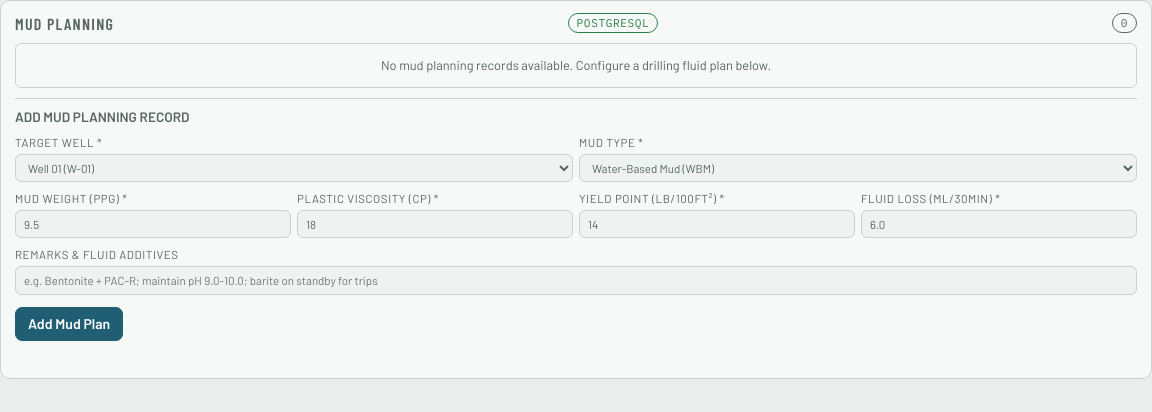
<MudPlanningEditor> › adds a valid mud plan via the form
Replace the text in the number field named "mud weight in ppg" with "10.5" at [153, 224], box [15,210,291,238]
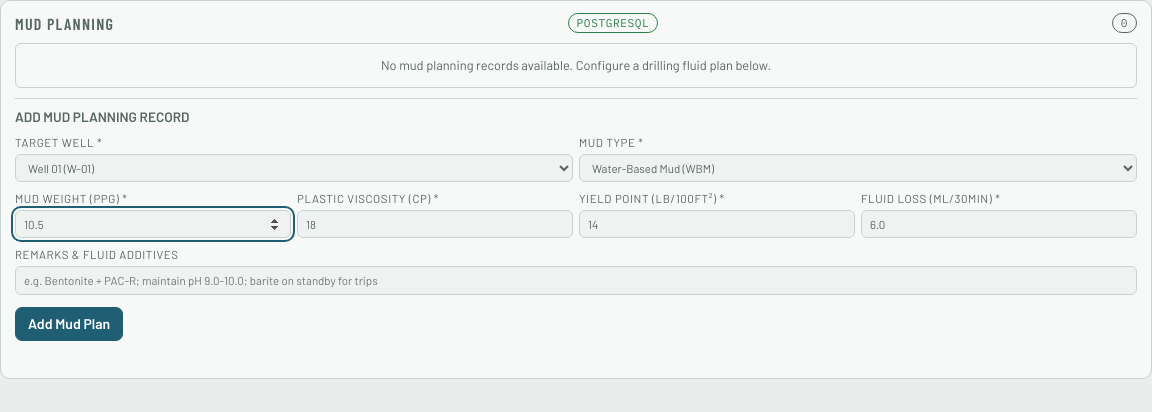
Replace the text in the number field named "plastic viscosity in cp" with "20" at [435, 224], box [297,210,573,238]
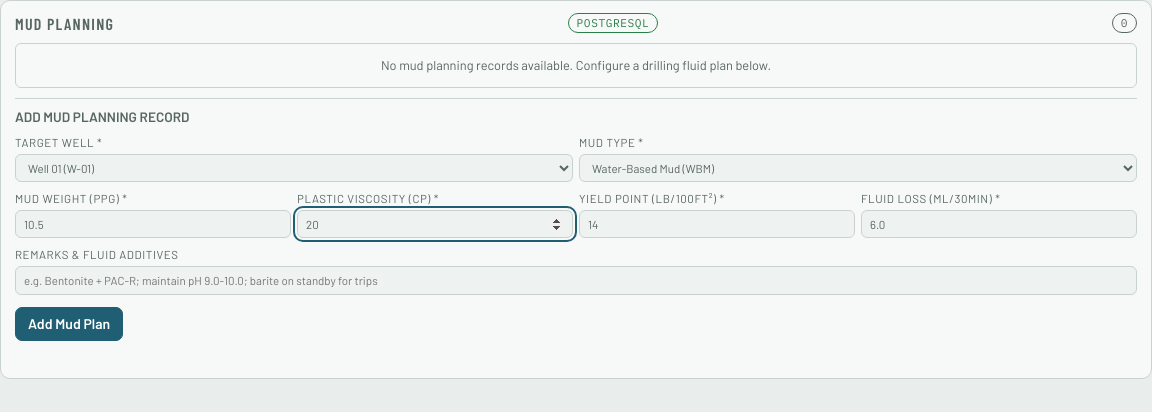
Replace the text in the number field named "yield point in lb/100ft²" with "15" at [717, 224], box [579,210,855,238]
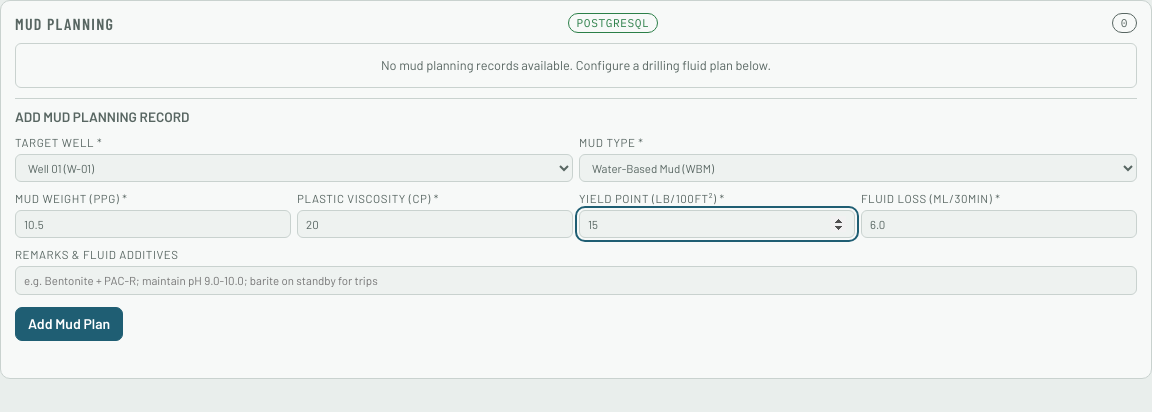
Replace the text in the number field named "fluid loss in ml/30min" with "5.0" at [999, 224], box [861,210,1137,238]
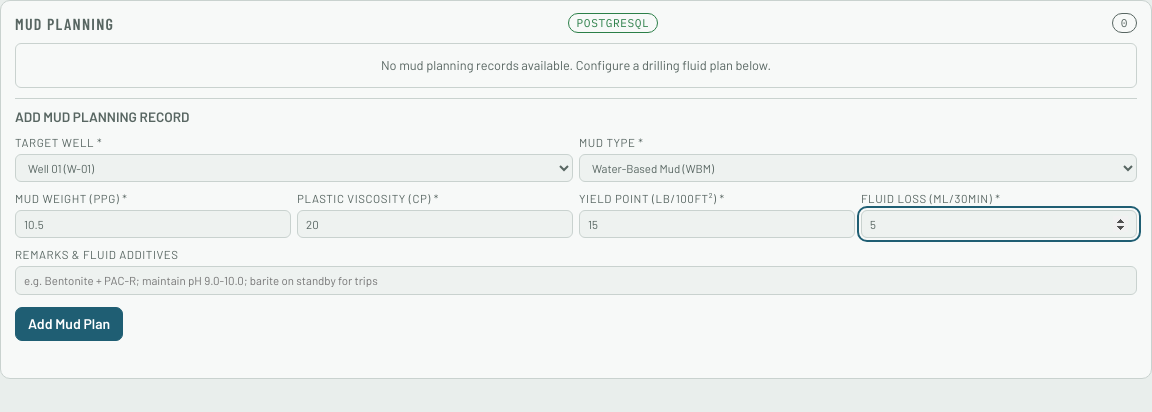
Click the button "Add Mud Plan" at [69, 324], box [15,307,123,341]
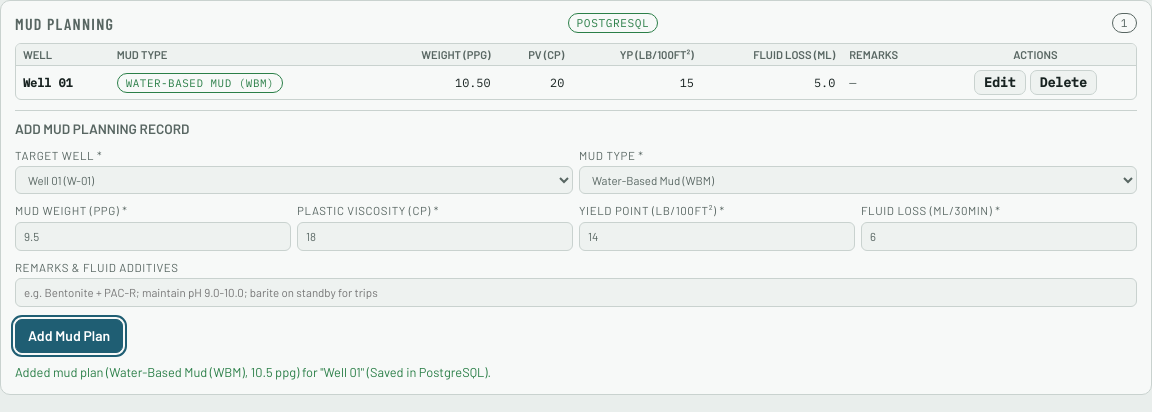
Check: the text "10.50" is shown, box [375,66,498,99]
